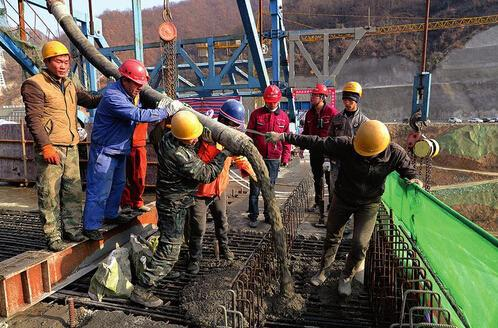helmet: (348, 120, 393, 164), (164, 109, 206, 146), (115, 58, 150, 97), (40, 38, 74, 77), (217, 96, 251, 131), (338, 79, 364, 115), (307, 81, 332, 107), (263, 84, 283, 111)
